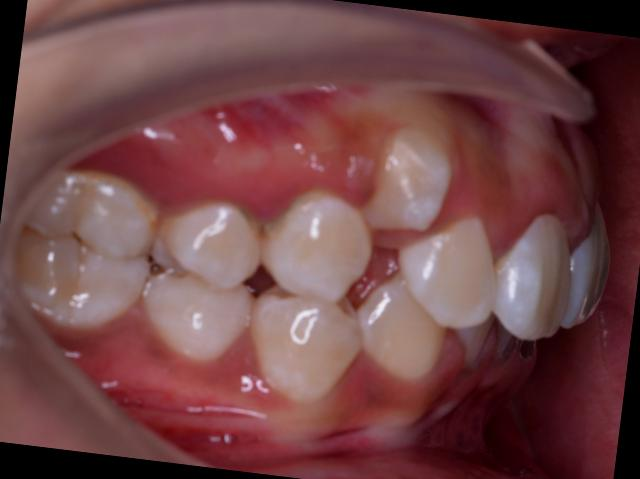canine class II 1/2: (235, 103, 482, 429)
molar class II 1/2: (0, 138, 183, 394)
